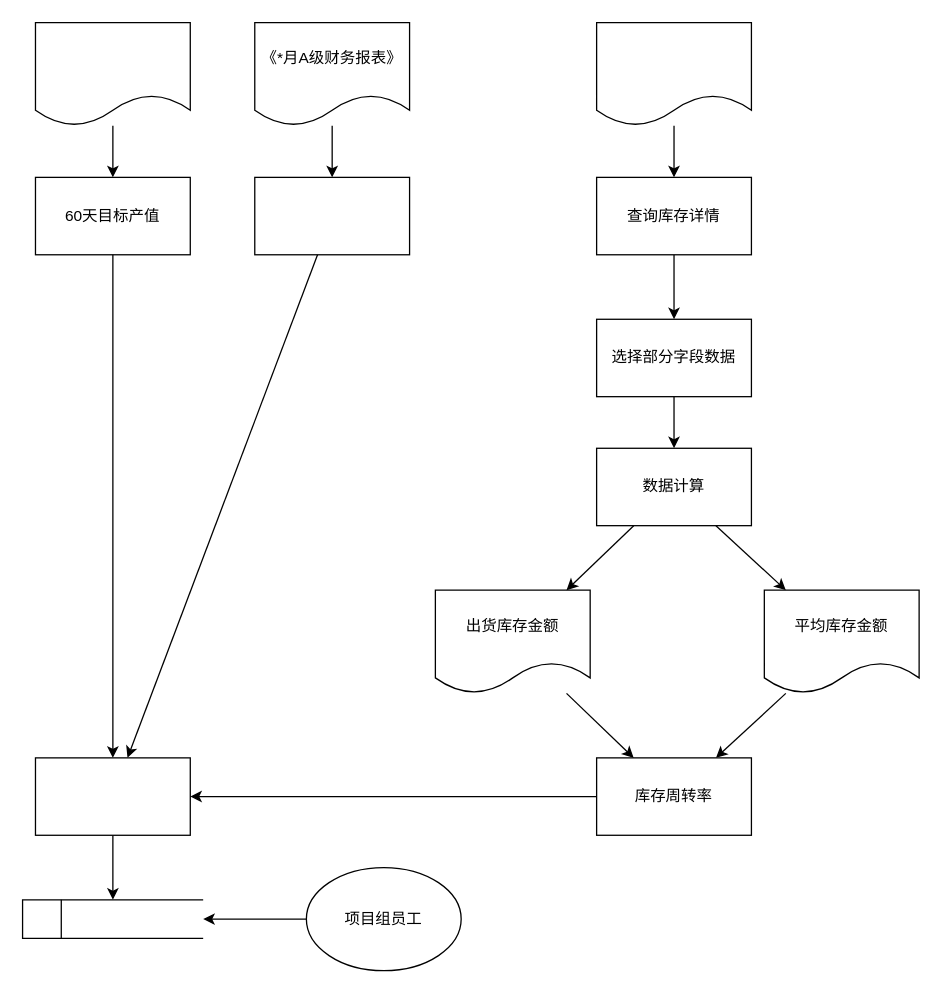
Image size: 942x993. Some labels were removed from this diagram. Here are the shapes that lost their labels. From the top down, the box of each, then its label:
(34, 21, 190, 126): 《项目*组*月C级销售报表-sheet1》
(595, 21, 751, 126): 旺店通销售数据
(253, 176, 410, 255): 毛利率
(34, 757, 190, 835): 核算评定
(21, 898, 203, 938): 60天库存周转金额
